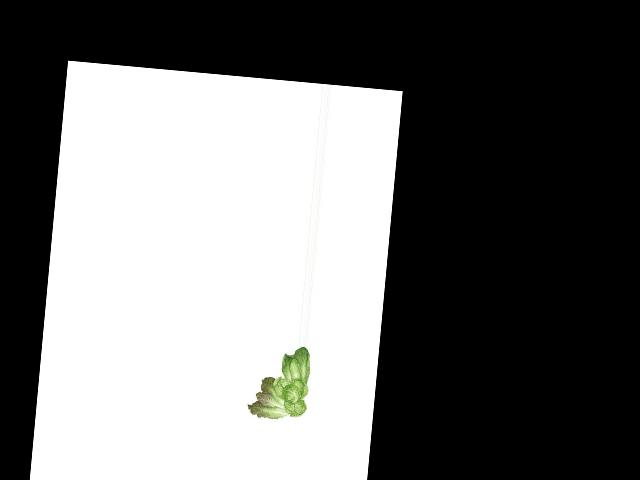lettuce: (242, 341, 316, 423)
